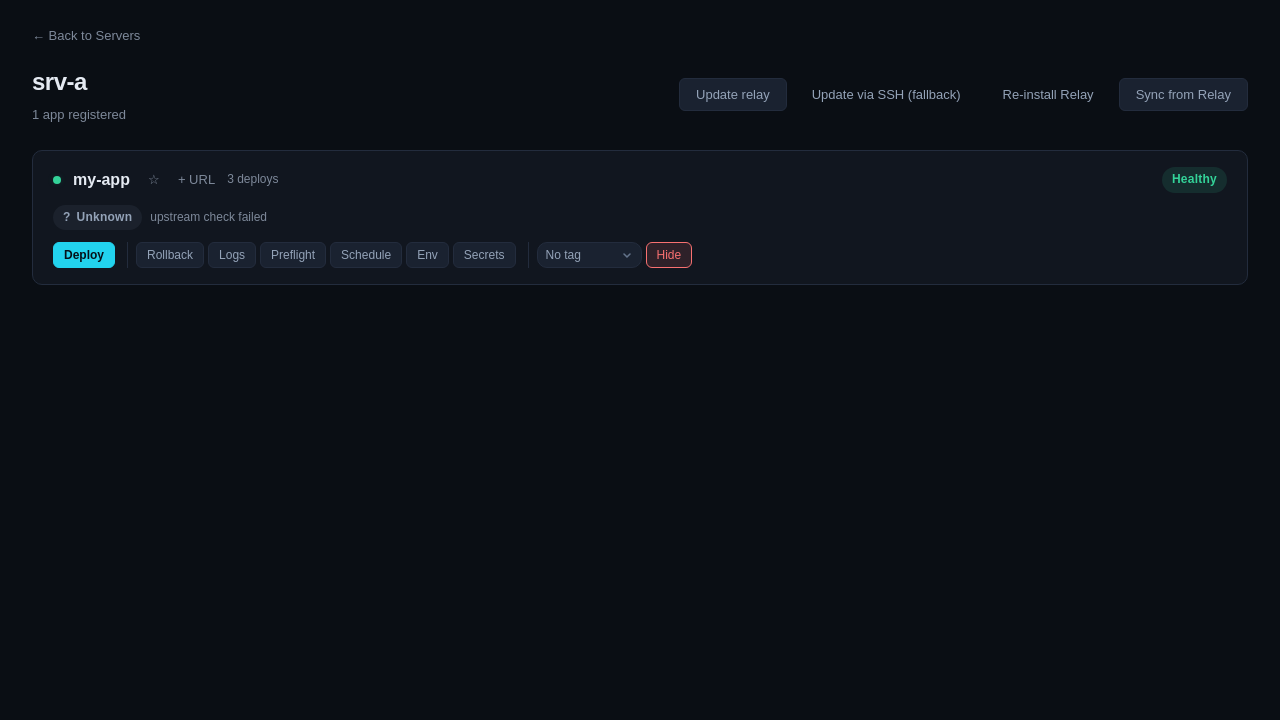
Test case: ServerDetailPage — Rollback result surfacing › blocked:true opens the preflight panel with the full per-check details
Expected: the text "my-app" is shown, left=73, top=167, right=130, bottom=193
Step 1. Click the button "Rollback" → (170, 255), box left=136, top=242, right=204, bottom=268
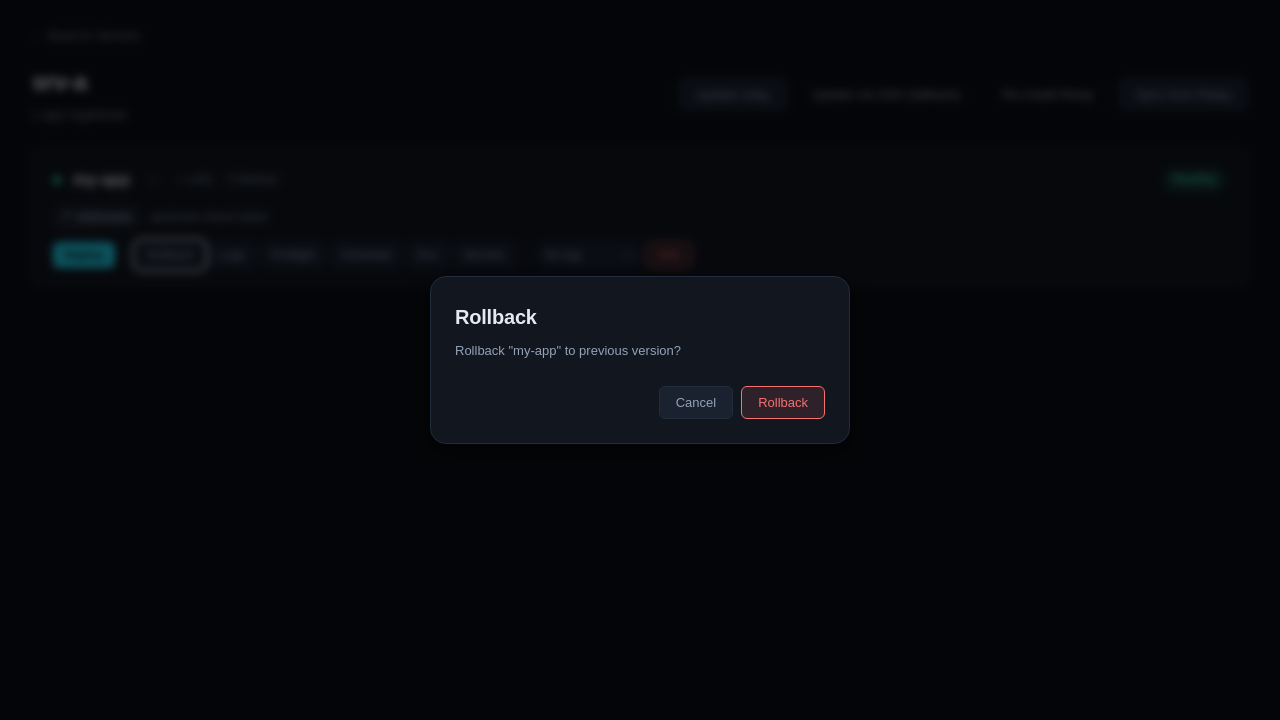
Step 2. Click the button "Rollback" → (783, 402), box left=741, top=386, right=825, bottom=419
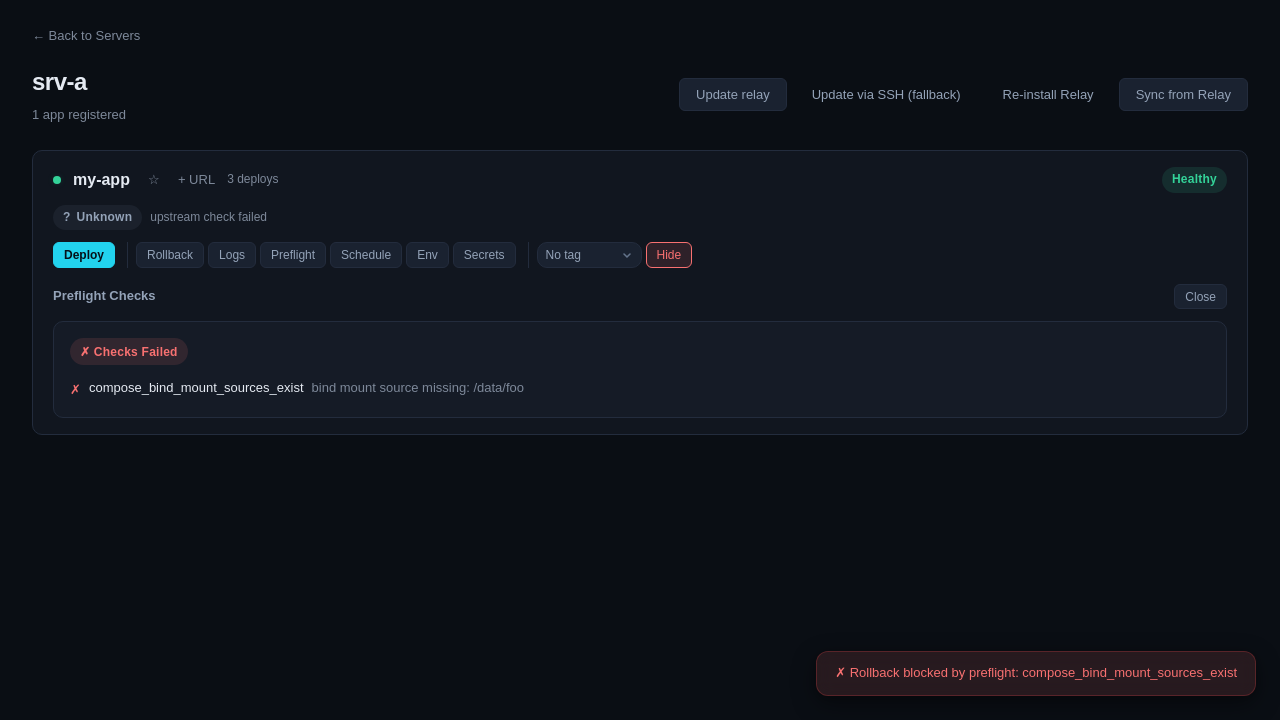
Expected: the text "Preflight Checks" is shown, left=53, top=286, right=156, bottom=307
Expected: the text "compose_bind_mount_sources_exist" is shown, left=89, top=380, right=304, bottom=395
Expected: the text "bind mount source missing: /data/foo" is shown, left=312, top=380, right=524, bottom=395
